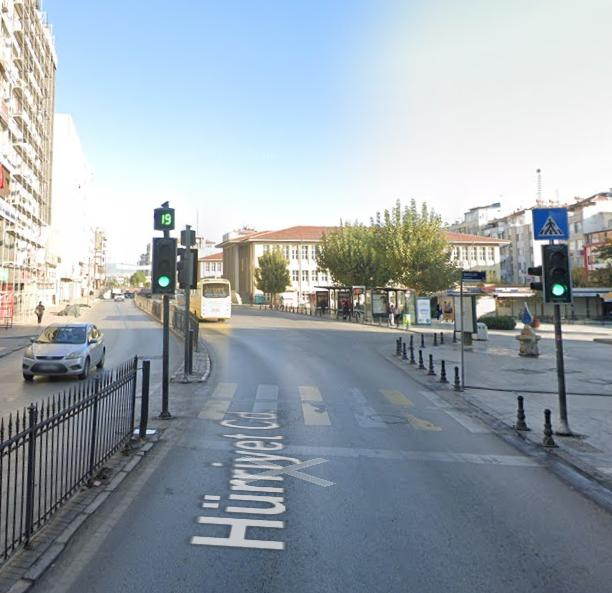greenlight: (541, 242, 572, 301), (153, 235, 177, 298)
